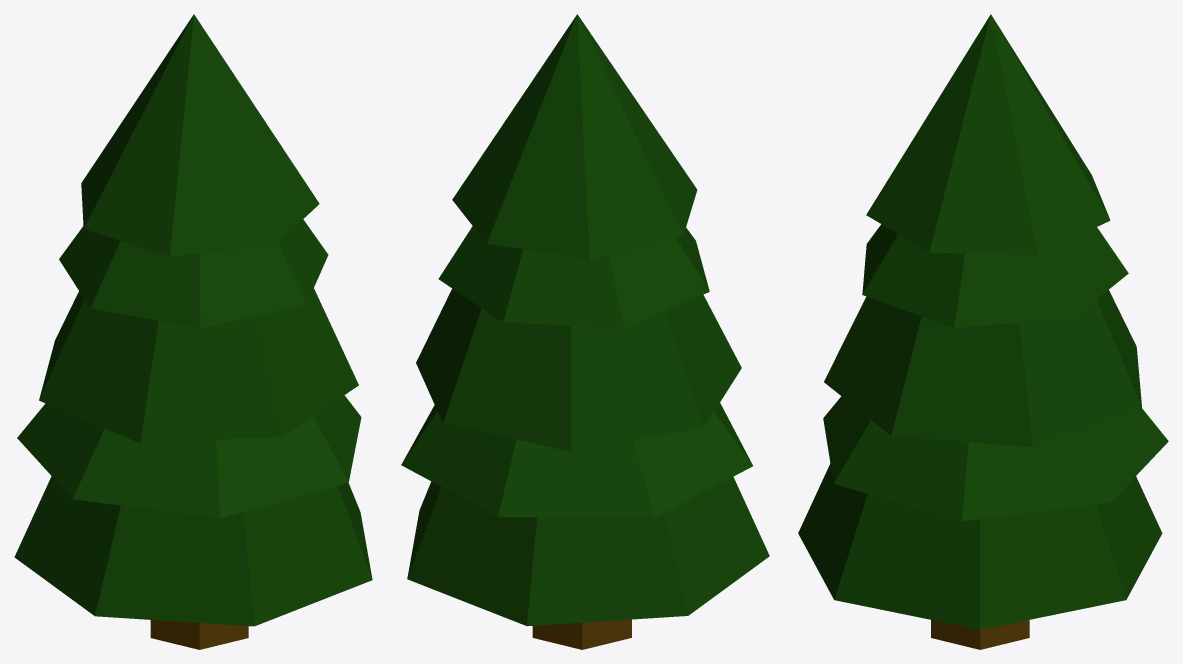
File: Denneboom low poly 2.fbx
3 renders of one model, left to right at view 1: azimuth 30°, elevation 25°; view 2: azimuth 150°, elevation 25°; view 3: azimuth 270°, elevation 25°, orthographic.
Parts seen in each view (by area): view 1: pCylinder38; view 2: pCylinder38; view 3: pCylinder38.
Boxes of the visible parts, x1=… form: pCylinder38: x1=14, y1=14, x2=372, y2=649; pCylinder38: x1=401, y1=14, x2=769, y2=649; pCylinder38: x1=798, y1=14, x2=1168, y2=649.
Bounding box in the file's own units: 14.55 × 27.37 × 15.03.
